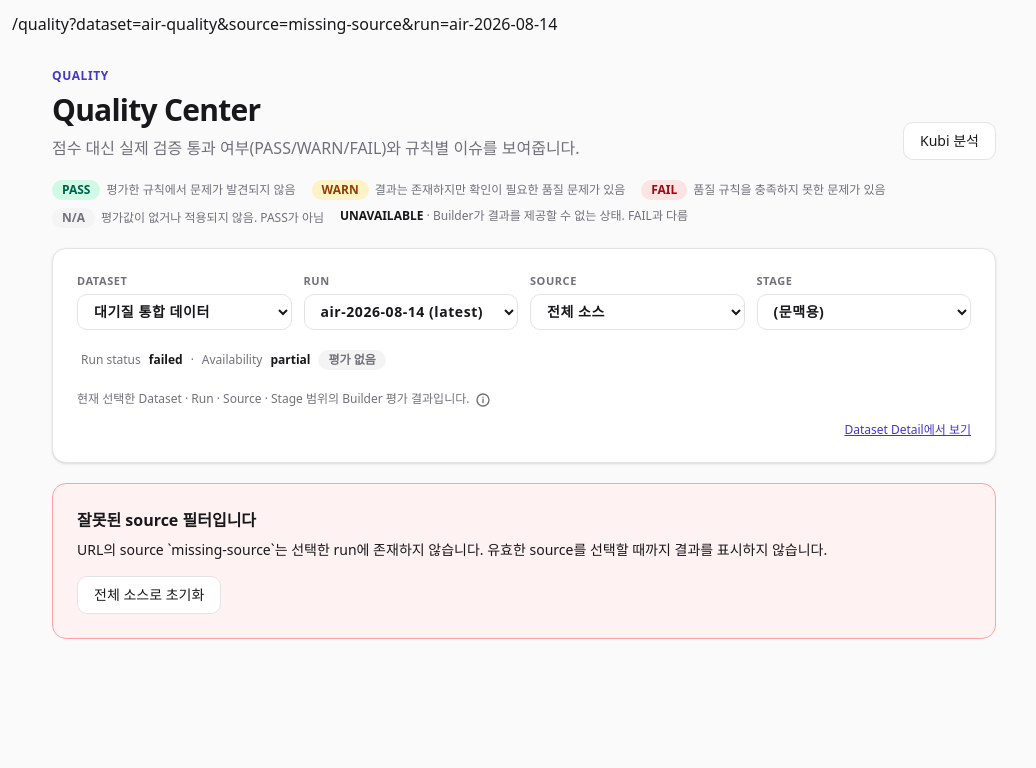
Test: Quality Center P0 (#254) › blocks result rendering for an invalid source and offers a reset
The image size is (1036, 768).
Expected: the text "잘못된 source 필터입니다" is shown, [77,508,256,530]
Expected: the text "Checks Passed" is not shown
Click the button "전체 소스로 초기화": click(149, 594) [77,576,221,614]
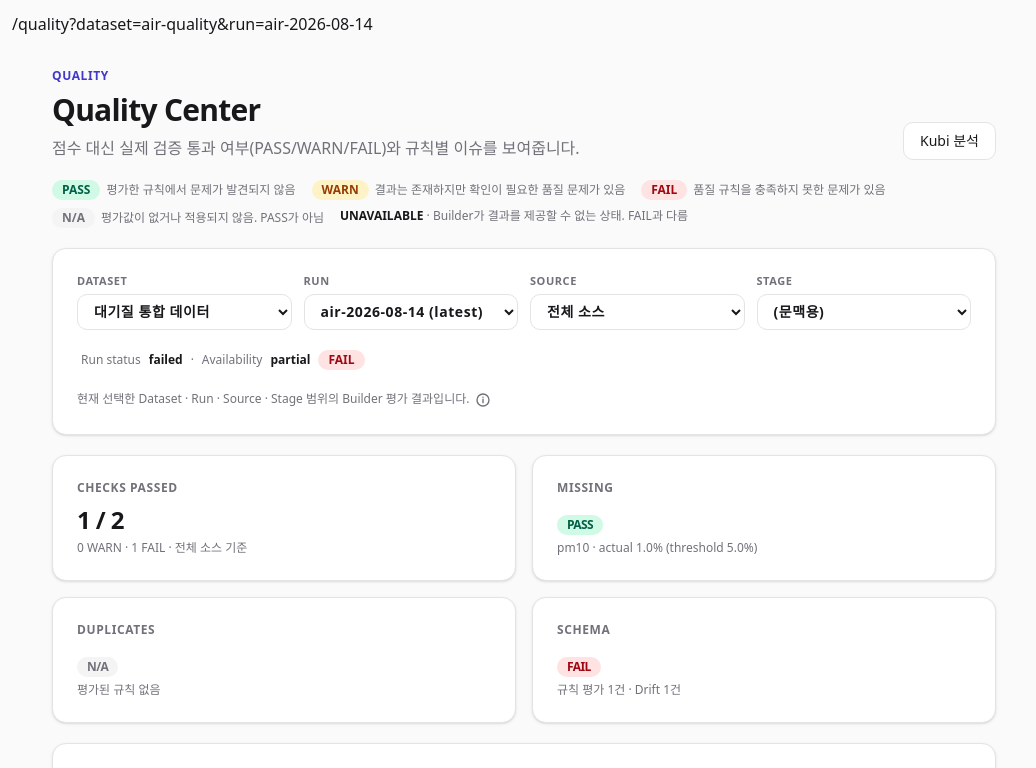
Result: the text with test id "location" no longer shows "source=" at [12,13,373,35]
Result: the text "Checks Passed" is shown at [77,478,178,496]
